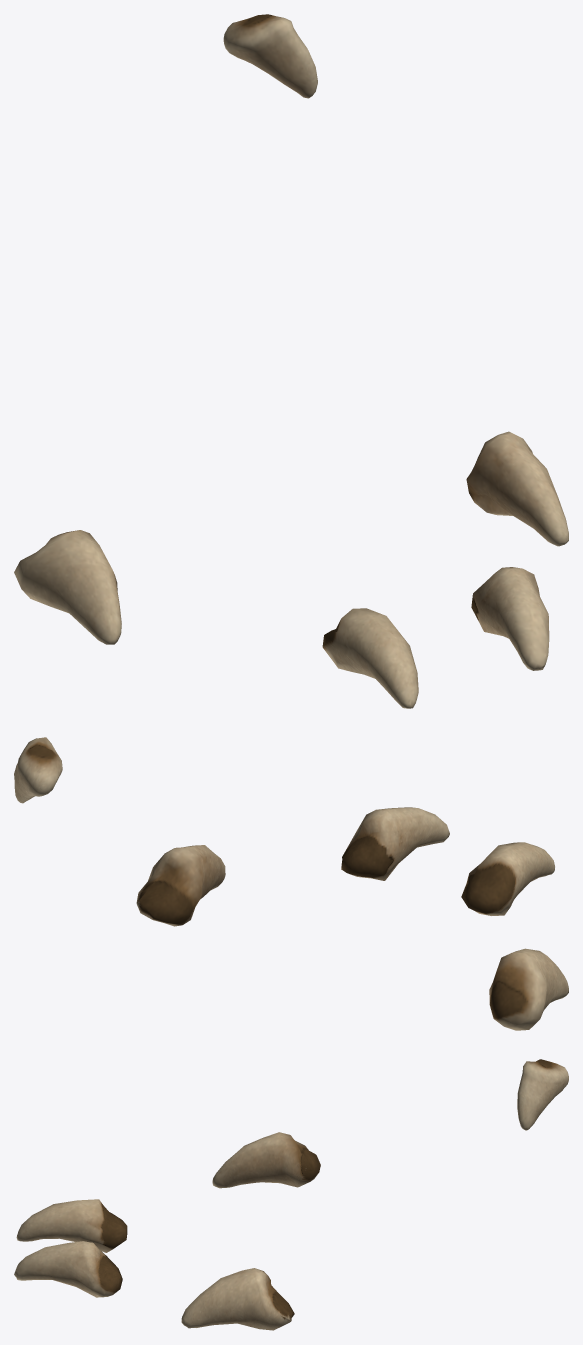
Rendered from Distal Phalanges.glb.
3 renders of one model, top to bottom at view 1: azimuth 30°, elevation 25°; view 2: azimuth 150°, elevation 25°; view 3: azimuth 270°, elevation 25°, orthographic. The views are drawn at different scales.
Parts seen in each view (by area): view 1: polySurface48, polySurface45, polySurface47, polySurface46, polySurface44; view 2: polySurface46, polySurface45, polySurface48, polySurface47, polySurface44; view 3: polySurface45, polySurface48, polySurface46, polySurface47, polySurface44.
Part boxes in pixels (x1=…): polySurface48: x1=14, y1=530, x2=121, y2=644; polySurface45: x1=466, y1=431, x2=568, y2=546; polySurface47: x1=322, y1=608, x2=418, y2=708; polySurface46: x1=471, y1=567, x2=549, y2=670; polySurface44: x1=223, y1=14, x2=317, y2=98; polySurface46: x1=341, y1=807, x2=449, y2=880; polySurface45: x1=136, y1=845, x2=225, y2=926; polySurface48: x1=489, y1=948, x2=568, y2=1030; polySurface47: x1=461, y1=842, x2=554, y2=915; polySurface44: x1=14, y1=737, x2=62, y2=803; polySurface45: x1=181, y1=1268, x2=294, y2=1330; polySurface48: x1=212, y1=1132, x2=320, y2=1188; polySurface46: x1=14, y1=1241, x2=122, y2=1297; polySurface47: x1=16, y1=1199, x2=127, y2=1252; polySurface44: x1=517, y1=1059, x2=568, y2=1130.
Size of the model in its own units: 48.83 by 35.84 by 68.35.
1 material, 1 textured.
